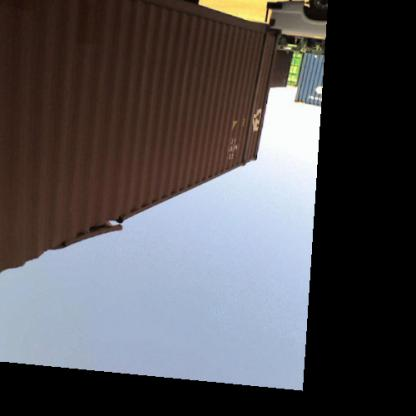Damage: (16, 206, 140, 252), (230, 32, 270, 170)
